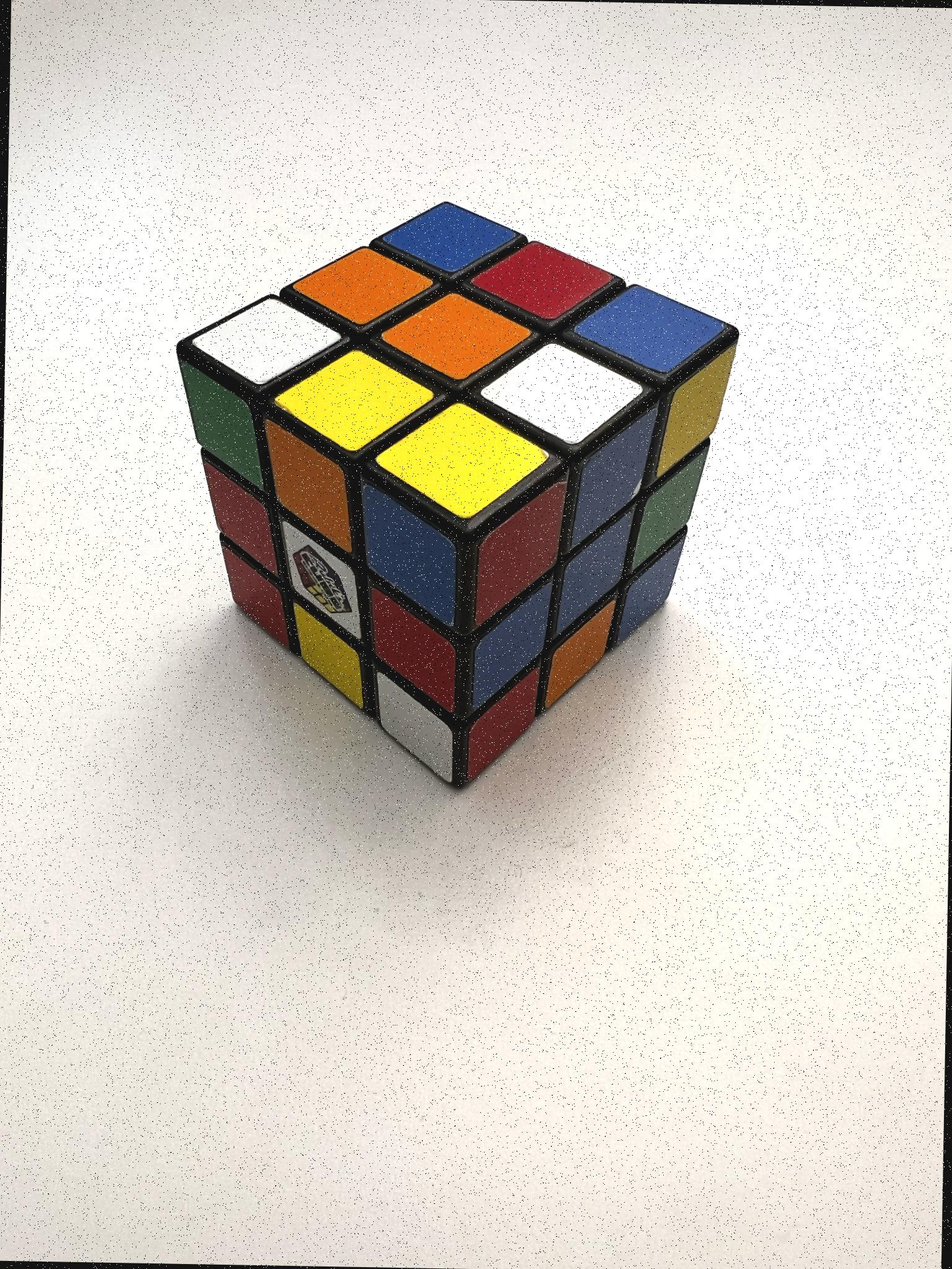rubiks_cube: (181, 203, 736, 783)
